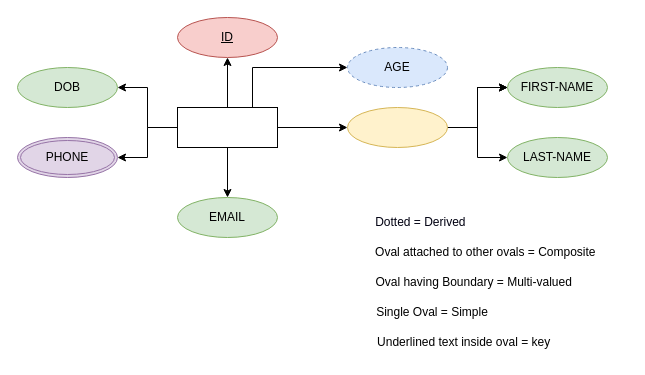
The diagram is 645 pixels wide and 375 high, and some of its shapes have lost their labels. The centre of each missing label's shape, as x and y in pixels:
NAME: (x=397, y=127)
STUDENT: (x=227, y=127)
